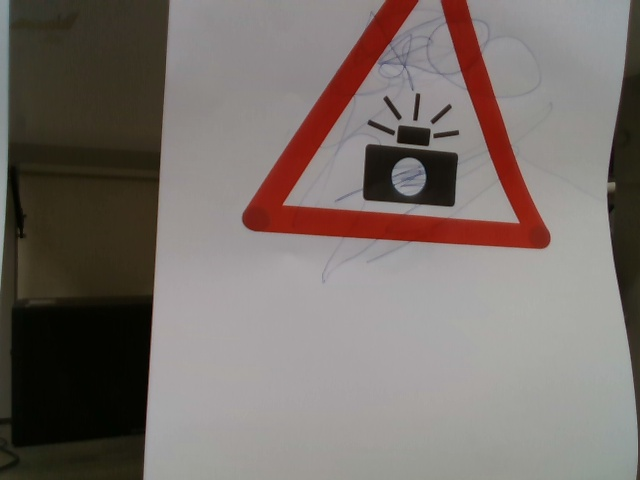camera: (228, 1, 556, 255)
